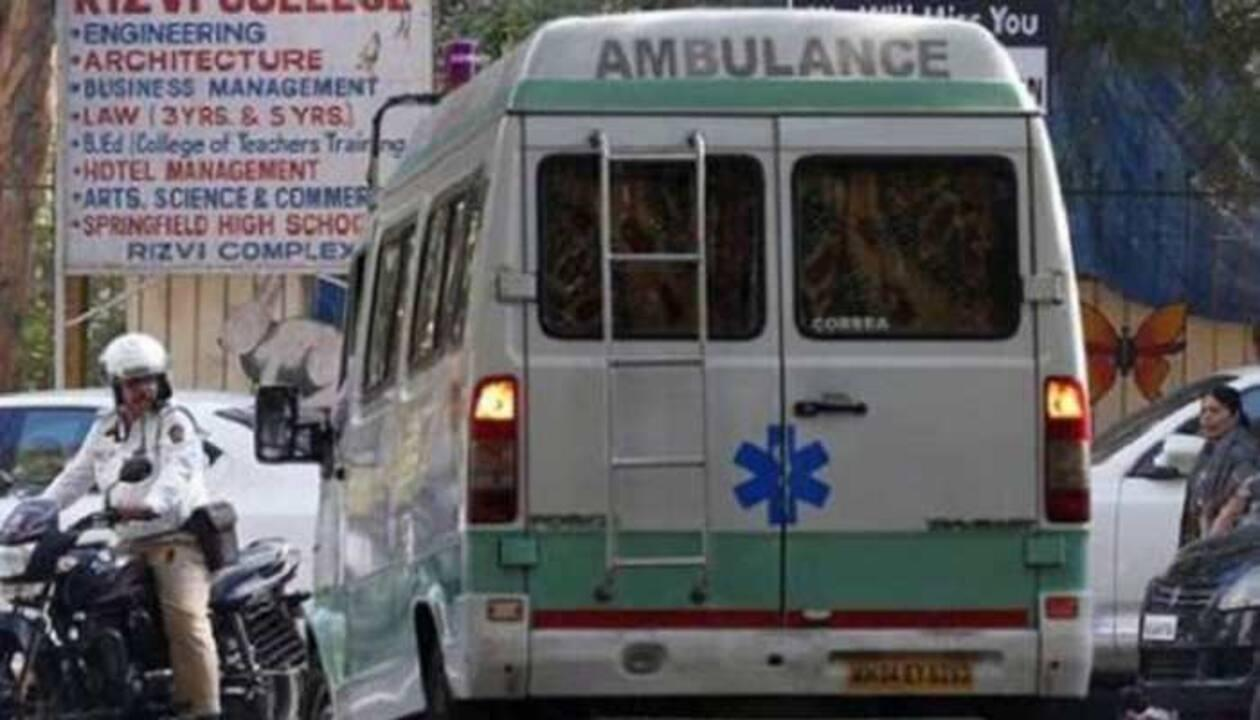AMBULANCE: (275, 0, 1107, 720)
